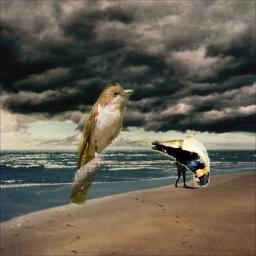Cuckoo: (70, 83, 134, 206)
Swallow: (138, 131, 210, 187)
